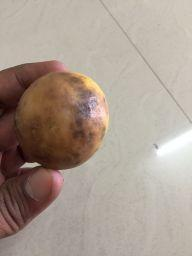lemon: (15, 67, 113, 172)
